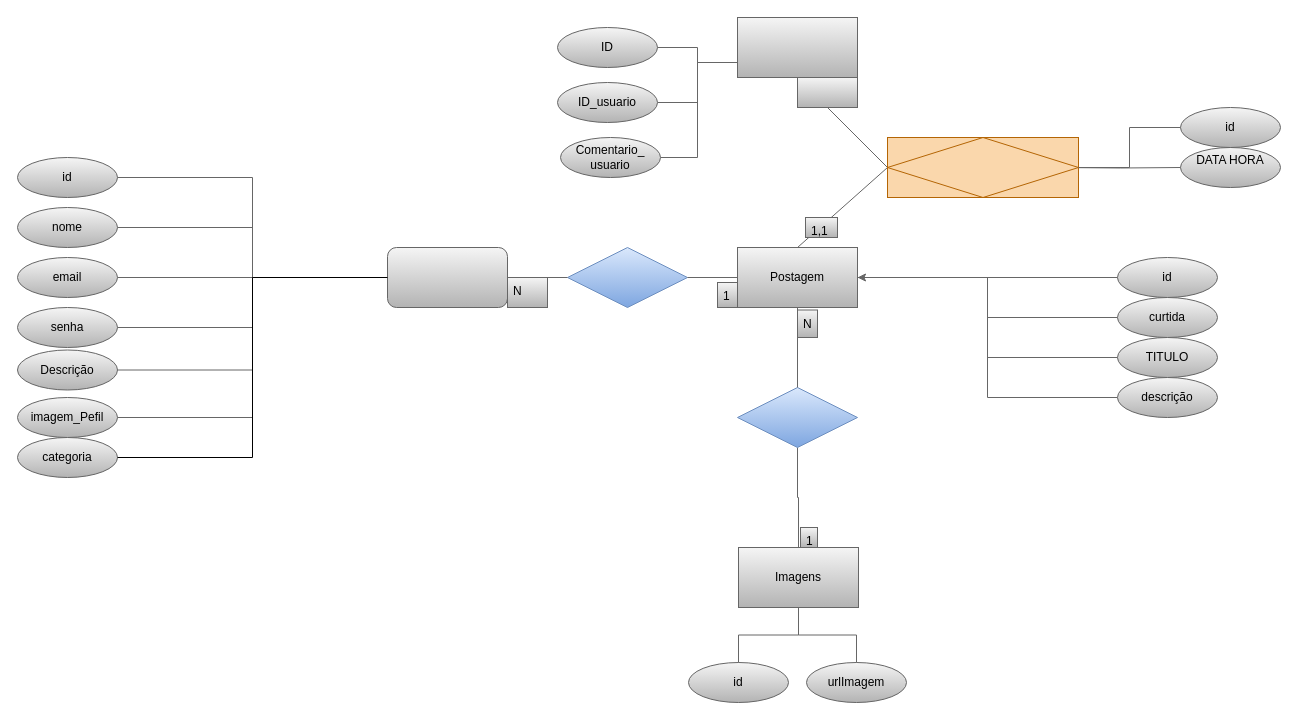
Some shapes in this 1298 by 720 pixel diagram are drawn without their labels. Each missing label, with the centre of its shape:
0,N: (x=827, y=92)
Comentario: (x=797, y=47)
COMENTARIO/POSTAGEM: (x=982, y=167)
Possui: (x=797, y=417)
Posta: (x=627, y=277)
Usuário: (x=447, y=277)
